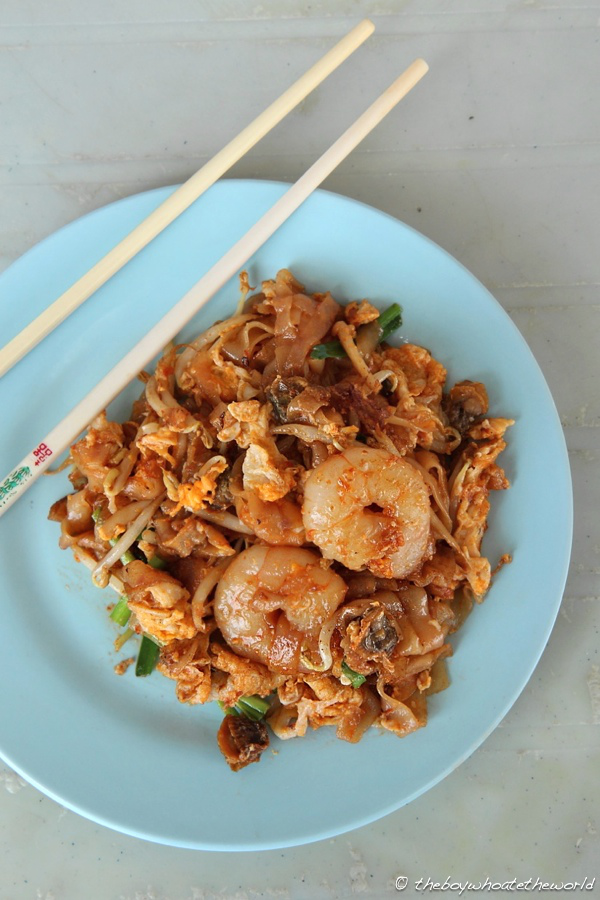Char Kway Teow: (71, 304, 503, 749)
